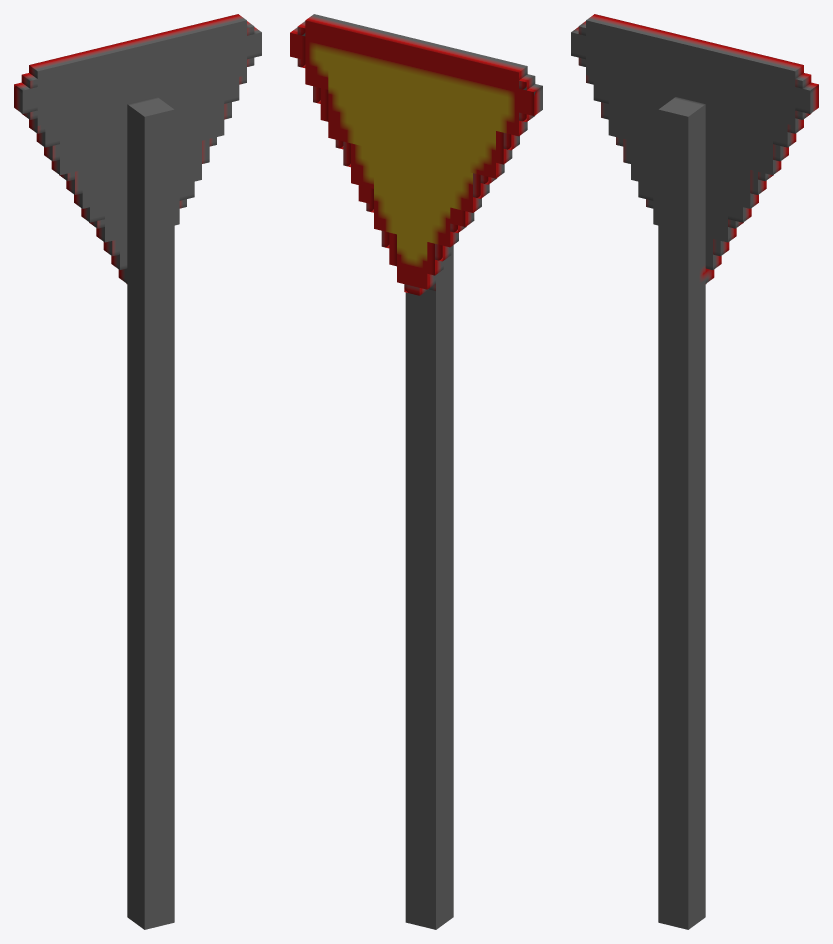
3 views of the same model, side by side, from view 1: azimuth 30°, elevation 25°; view 2: azimuth 150°, elevation 25°; view 3: azimuth 330°, elevation 25° (orthographic). The views are drawn at different scales.
Visible parts, largest first — view 1: Content; view 2: Content; view 3: Content.
Boxes of the visible parts, box(x1,y1,x2,y2) form: Content: box(14, 14, 261, 929); Content: box(290, 14, 542, 929); Content: box(571, 14, 818, 929).
Size of the model in its own units: 32 by 111 by 6.
1 material, 1 textured.
